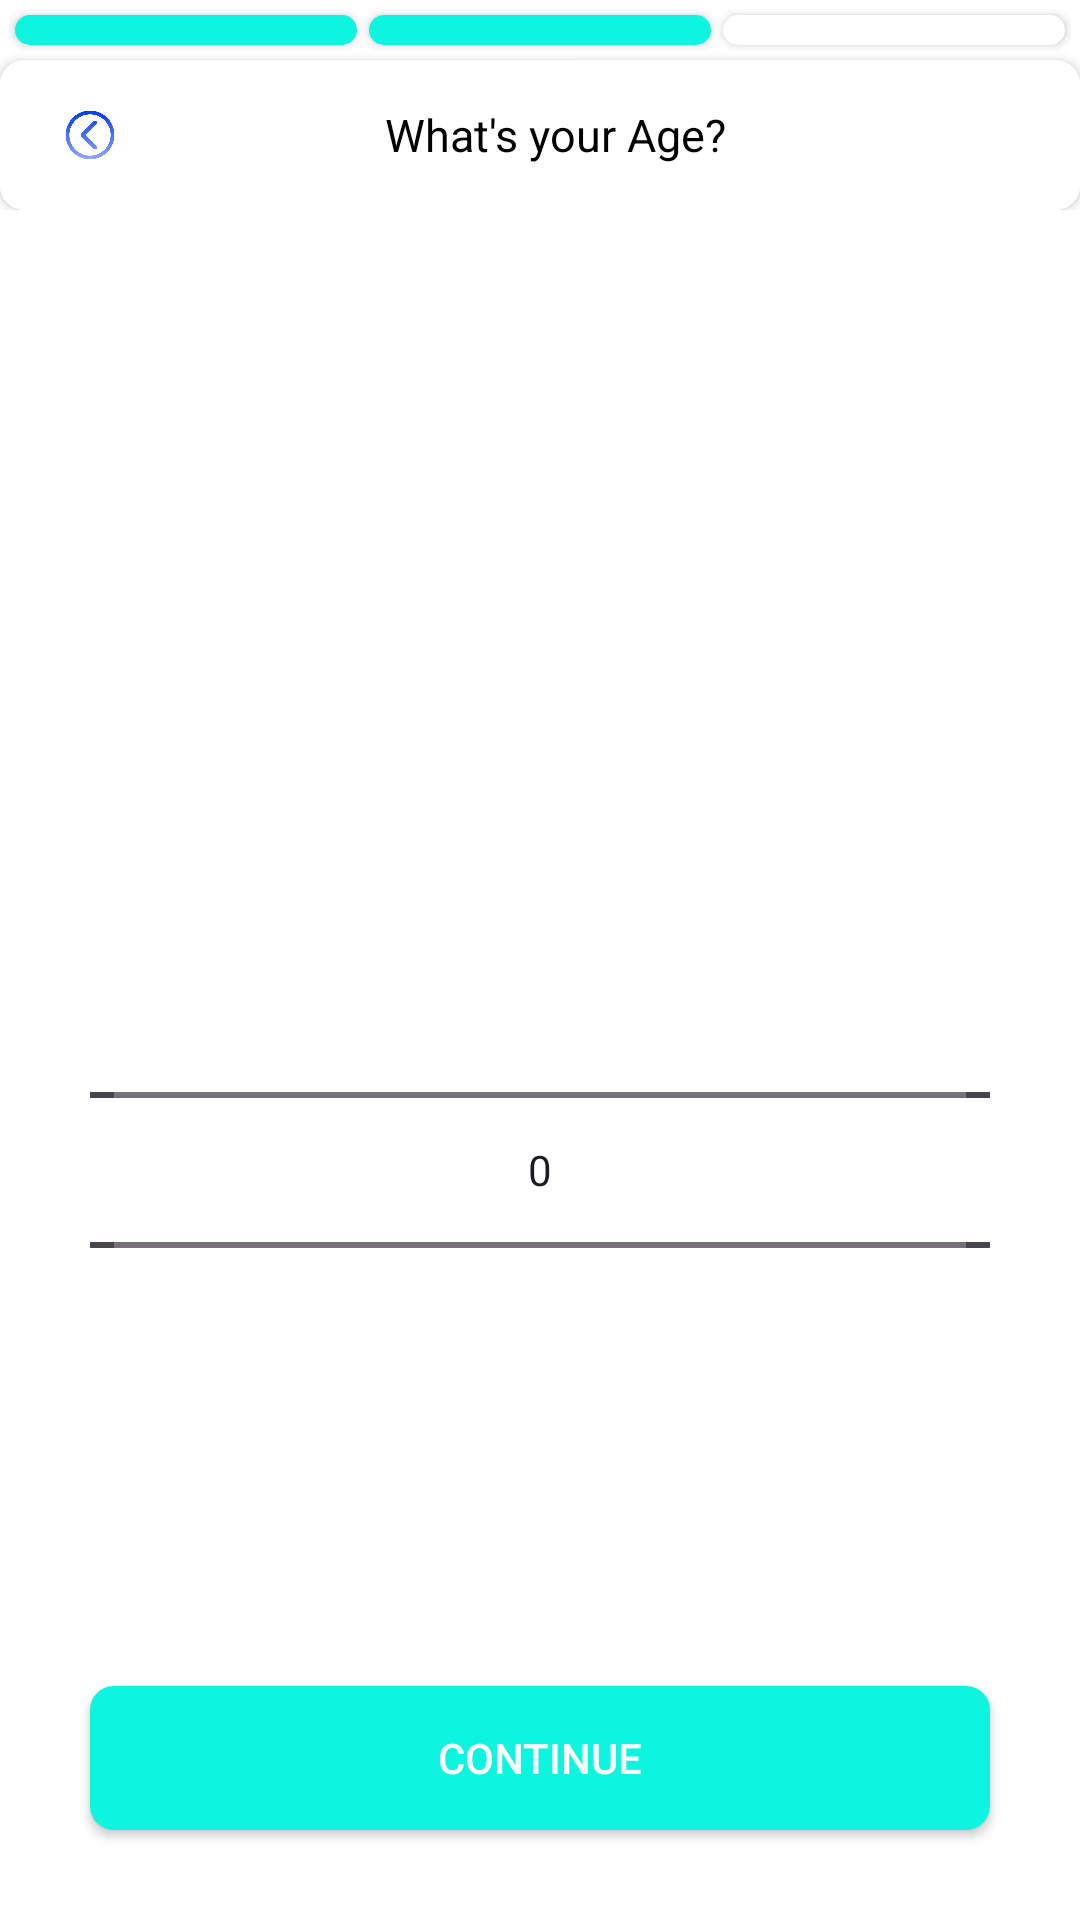

Named icons in this screenshot (1080 x 1920) and their bounding boxes, {"left": x1, "top": y1, "right": x2, "bottom": y2}:
back: {"left": 66, "top": 111, "right": 114, "bottom": 159}
